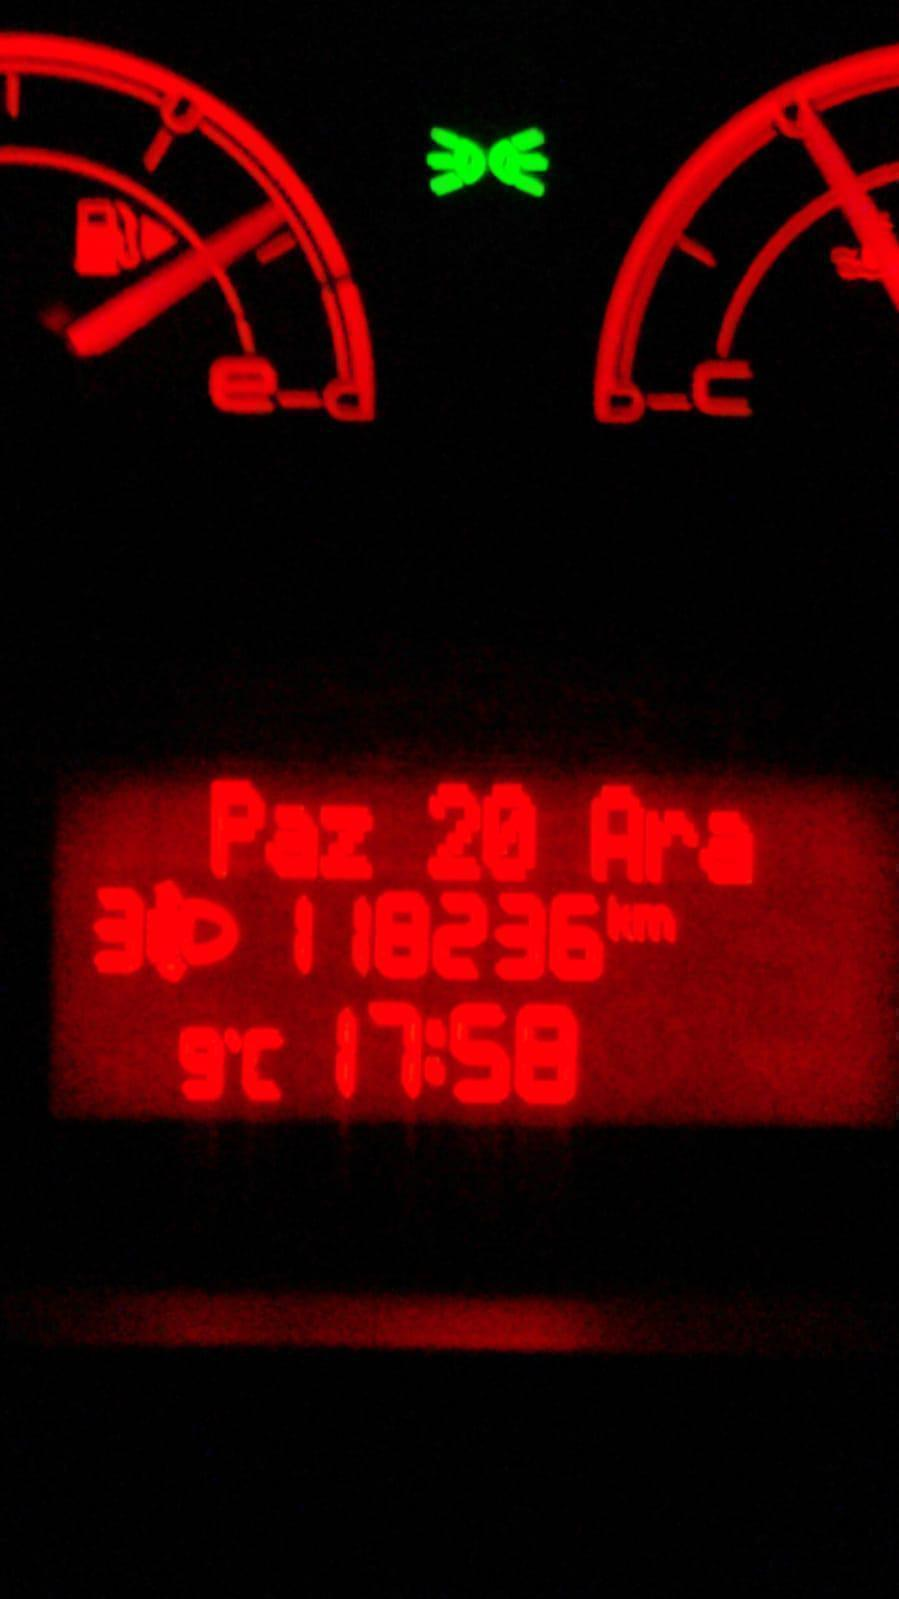0: (487, 778, 541, 879)
1: (330, 1000, 361, 1115), (288, 888, 316, 986), (346, 886, 374, 977)
2: (422, 775, 486, 884), (435, 885, 488, 984)
3: (496, 888, 549, 986), (90, 881, 141, 982)
5: (449, 994, 510, 1107)
6: (551, 886, 607, 989)
7: (368, 989, 422, 1106)
8: (513, 999, 582, 1118), (373, 886, 432, 980)
9: (175, 1016, 227, 1110)
X: (204, 772, 267, 879), (588, 783, 648, 885), (319, 793, 381, 883), (704, 807, 758, 888), (267, 798, 317, 883), (651, 803, 700, 886), (241, 1019, 289, 1106), (422, 1010, 449, 1091), (634, 901, 677, 943), (608, 891, 634, 944)
odometer: (38, 762, 897, 1134)
